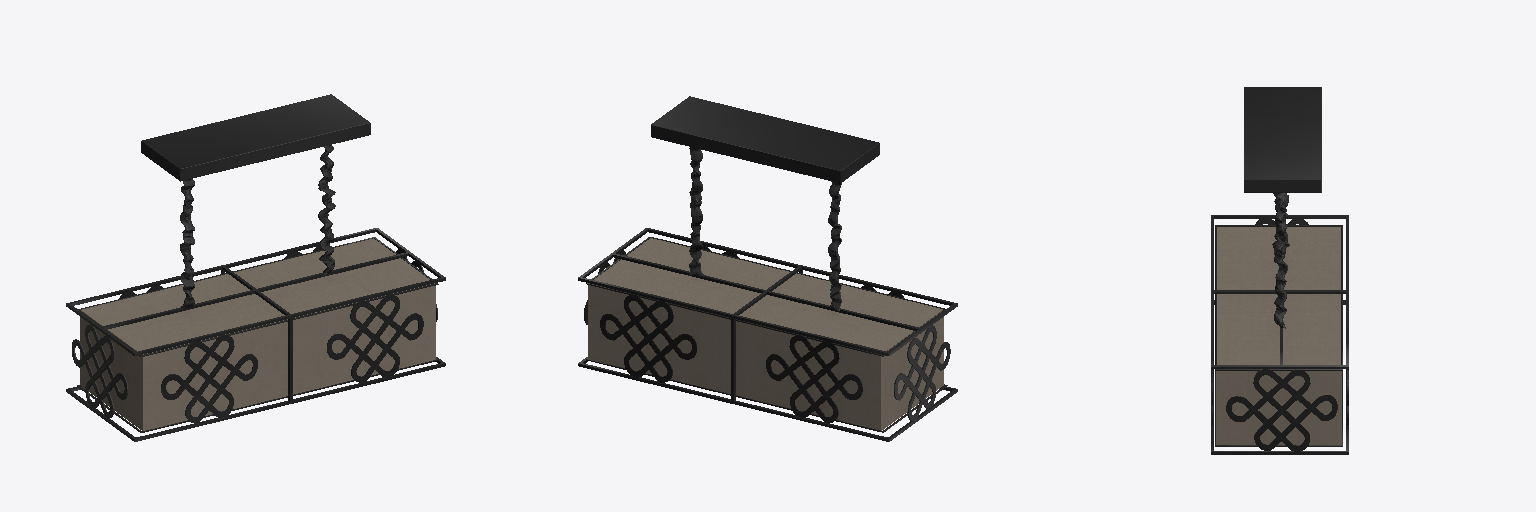
3 views of the same model, side by side, from view 1: azimuth 30°, elevation 25°; view 2: azimuth 150°, elevation 25°; view 3: azimuth 270°, elevation 25° (orthographic).
Bounding box in the file's own units: 0.5594 × 0.4228 × 0.2142.
Materials: 1 (1 with a texture image).